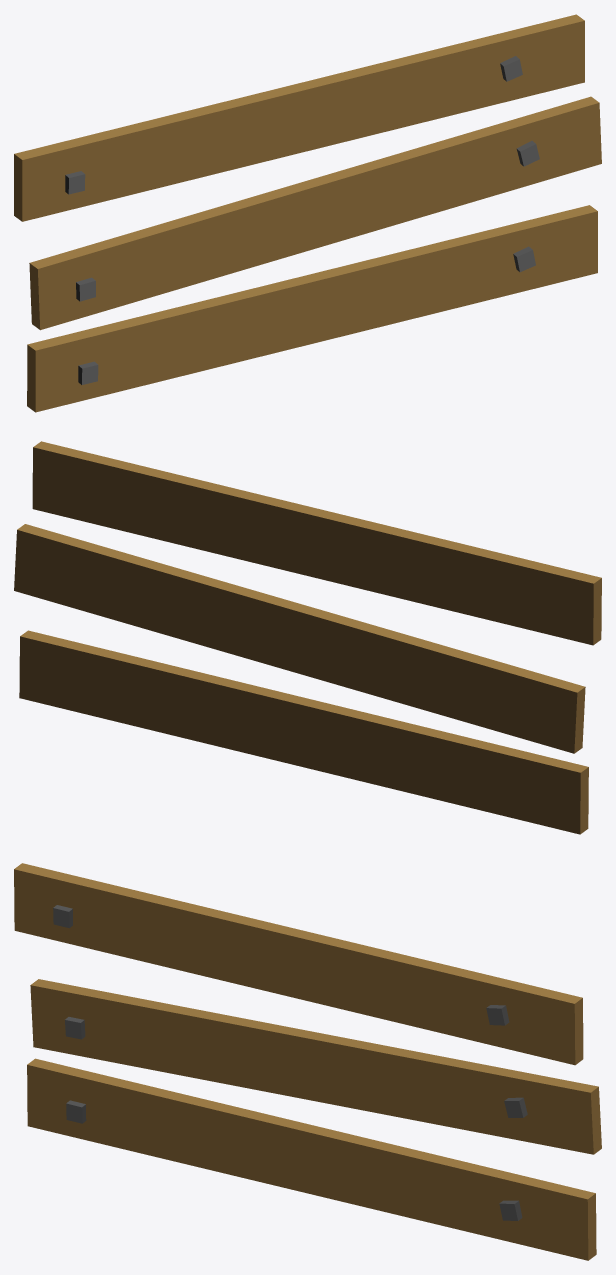
Rendered from SA_Bld_TownHouseLarge_Defence_01.gltf.
The picture shows the model from 3 angles, top to bottom: view 1: azimuth 30°, elevation 25°; view 2: azimuth 150°, elevation 25°; view 3: azimuth 330°, elevation 25°; orthographic projection.
Parts seen in each view (by area): view 1: SA_Bld_TownHouseLarge_Defence_01; view 2: SA_Bld_TownHouseLarge_Defence_01; view 3: SA_Bld_TownHouseLarge_Defence_01.
Boxes of the visible parts, x1,y1,x2,y2 form: SA_Bld_TownHouseLarge_Defence_01: [14, 14, 601, 412]; SA_Bld_TownHouseLarge_Defence_01: [14, 441, 601, 834]; SA_Bld_TownHouseLarge_Defence_01: [14, 863, 601, 1260].
Bounding box in the file's own units: 3.02 × 1.27 × 0.1292.
Materials: 1 (1 with a texture image).
